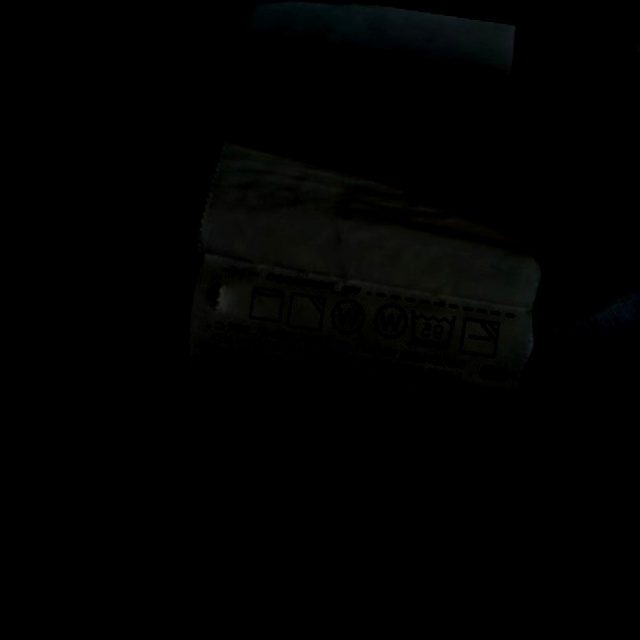95C: (405, 307, 459, 352)
dry_flat_in_shade: (458, 313, 503, 361)
line_dry: (244, 281, 289, 325)
shade_dry: (284, 289, 328, 334)
wet_clean: (327, 295, 369, 340), (369, 297, 410, 343)
